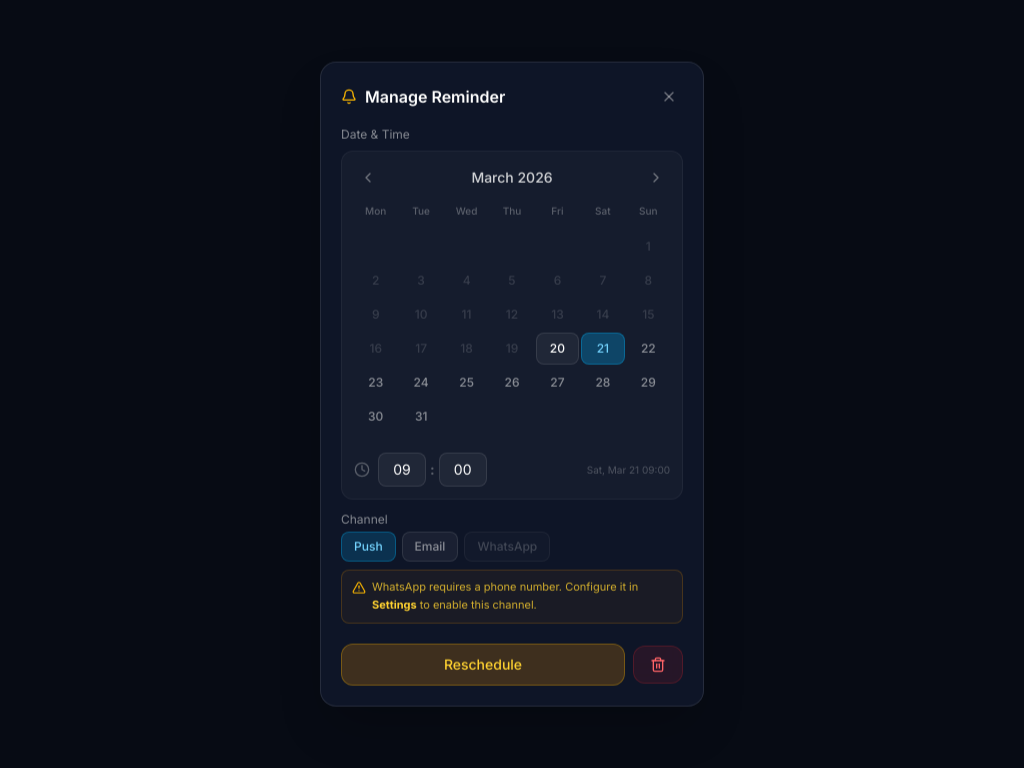
Test: ReminderDialog › Manage mode (active reminder) › shows validation error and blocks reschedule when selected time is in the past
The width and height of the screenshot is (1024, 768).
Click the button "Reschedule" at (483, 664), box [341,643,625,685]
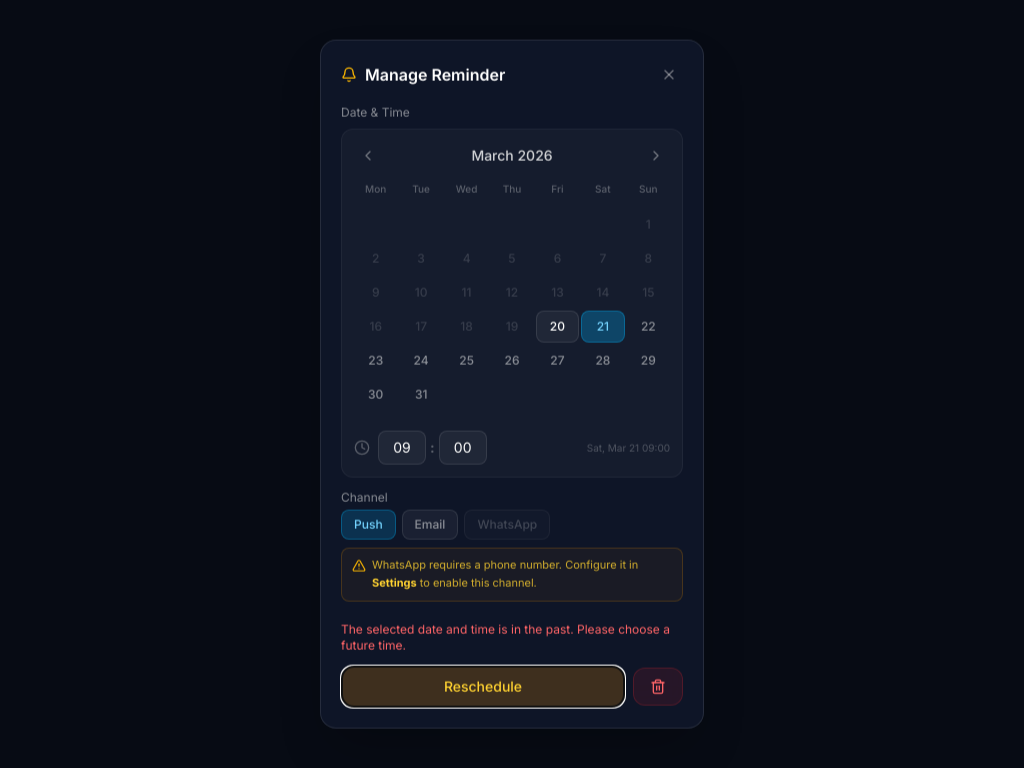
Now the text "The selected date and time is in the past. Please choose a future time." is shown, box [341,621,683,653]
